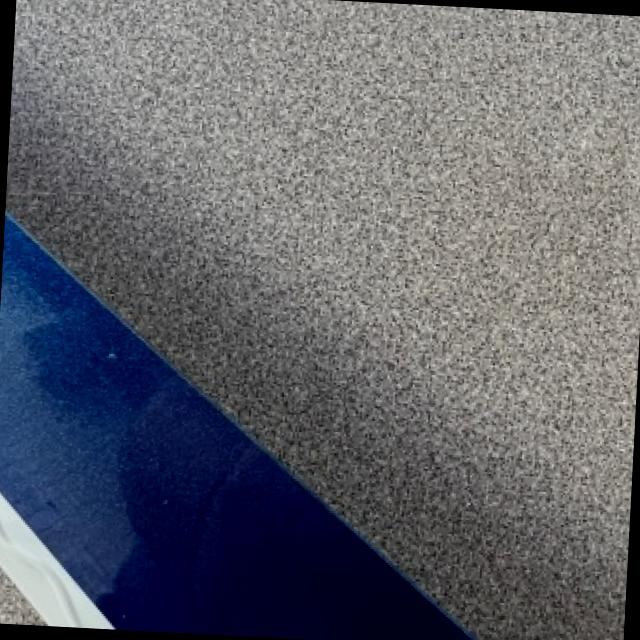healthy: (8, 0, 640, 640), (0, 214, 475, 640)
